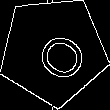O_NW: (21, 19, 86, 83)
